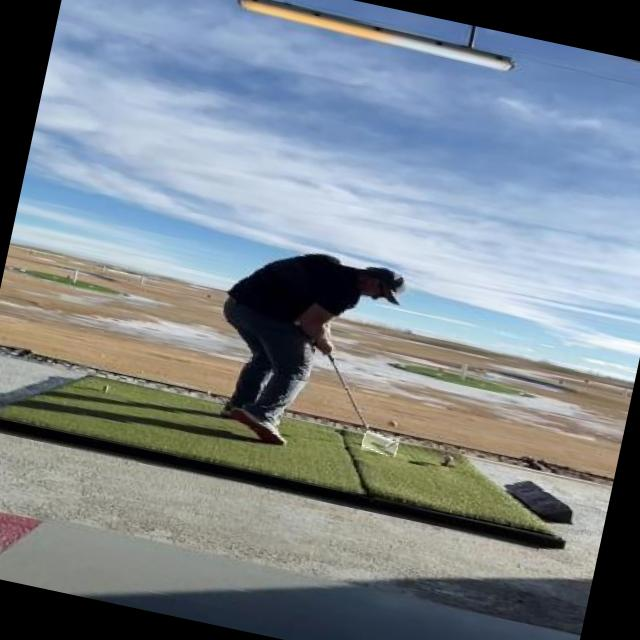club head: (360, 431, 399, 456)
